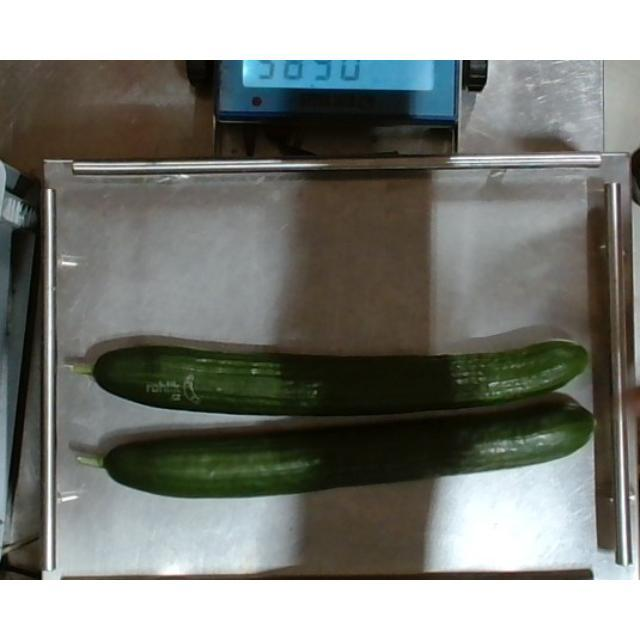cucumber: (79, 402, 596, 498), (67, 340, 587, 416)
